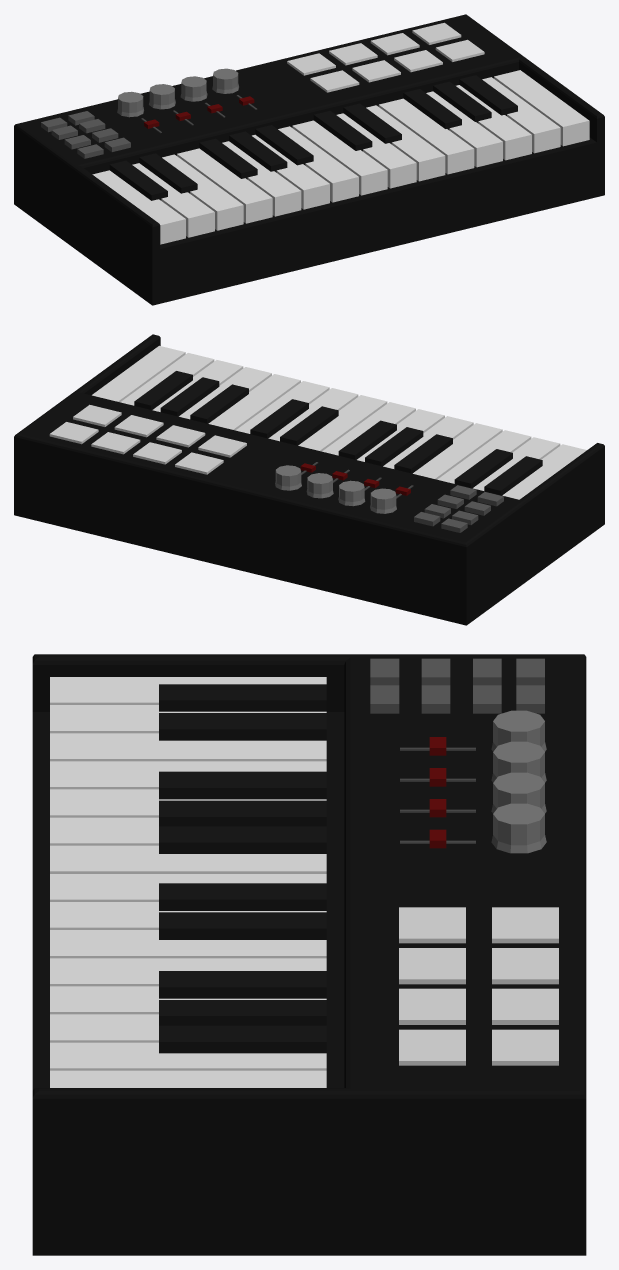
Rendered from Midi Keyboard19.fbx.
The picture shows the model from 3 angles, top to bottom: view 1: azimuth 30°, elevation 25°; view 2: azimuth 150°, elevation 25°; view 3: azimuth 270°, elevation 25°; orthographic projection. The views are drawn at different scales.
Visible parts, largest first — view 1: 49keysmidi.020; view 2: 49keysmidi.020; view 3: 49keysmidi.020.
Part boxes in pixels (left/top/right/bottom): 49keysmidi.020: left=14, top=14, right=604, bottom=305; 49keysmidi.020: left=14, top=334, right=604, bottom=625; 49keysmidi.020: left=32, top=654, right=586, bottom=1255.
Size of the model in its own units: 36.49 by 7.32 by 19.33.
